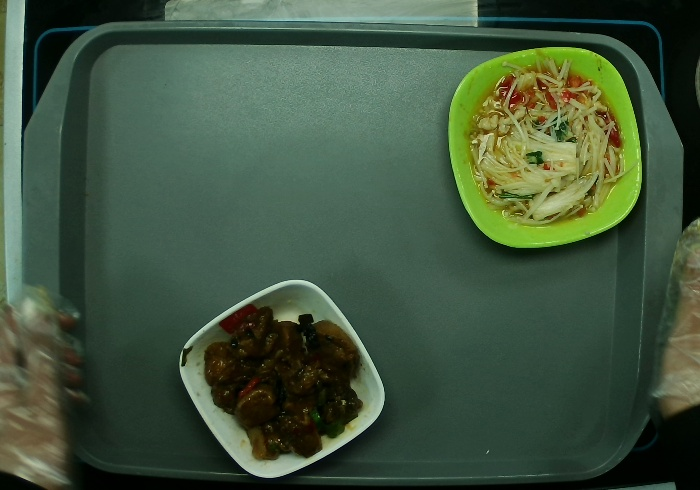SHKJ-Bai_Se_Xiao_Fang_Die: (175, 278, 388, 486)
SHKJ-Lv_Se_Cai_Die: (443, 44, 647, 251)
